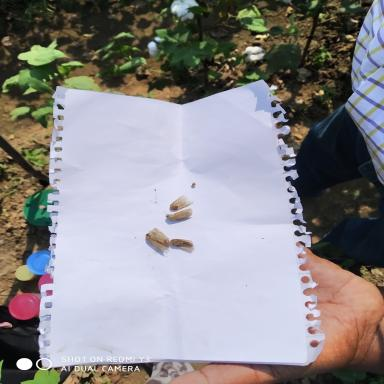abw: (147, 226, 170, 247), (169, 193, 195, 211), (165, 207, 195, 222), (170, 237, 196, 252)
